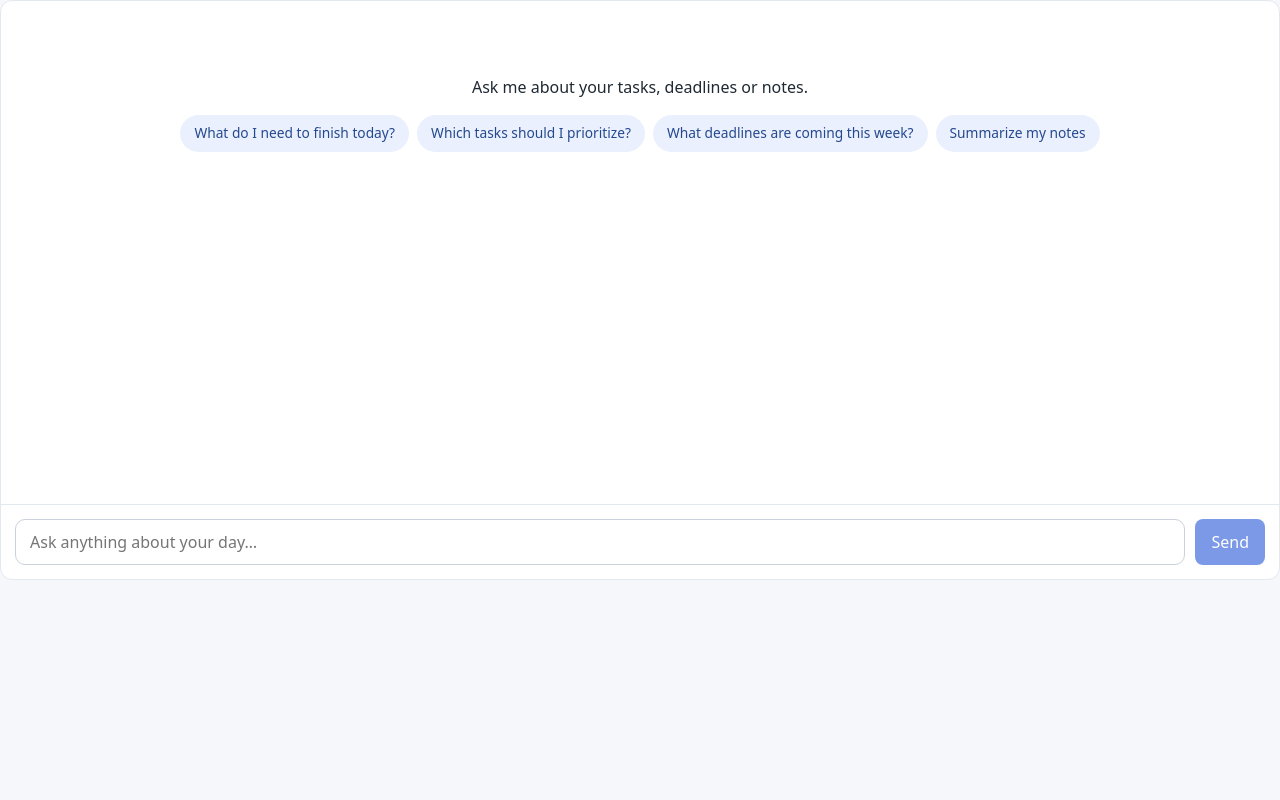
Scenario: ChatAssistant › shows an error when the API fails
The image size is (1280, 800).
Step 1. Type "hello" into the field named "message the assistant" → (600, 542), box [15,519,1186,565]
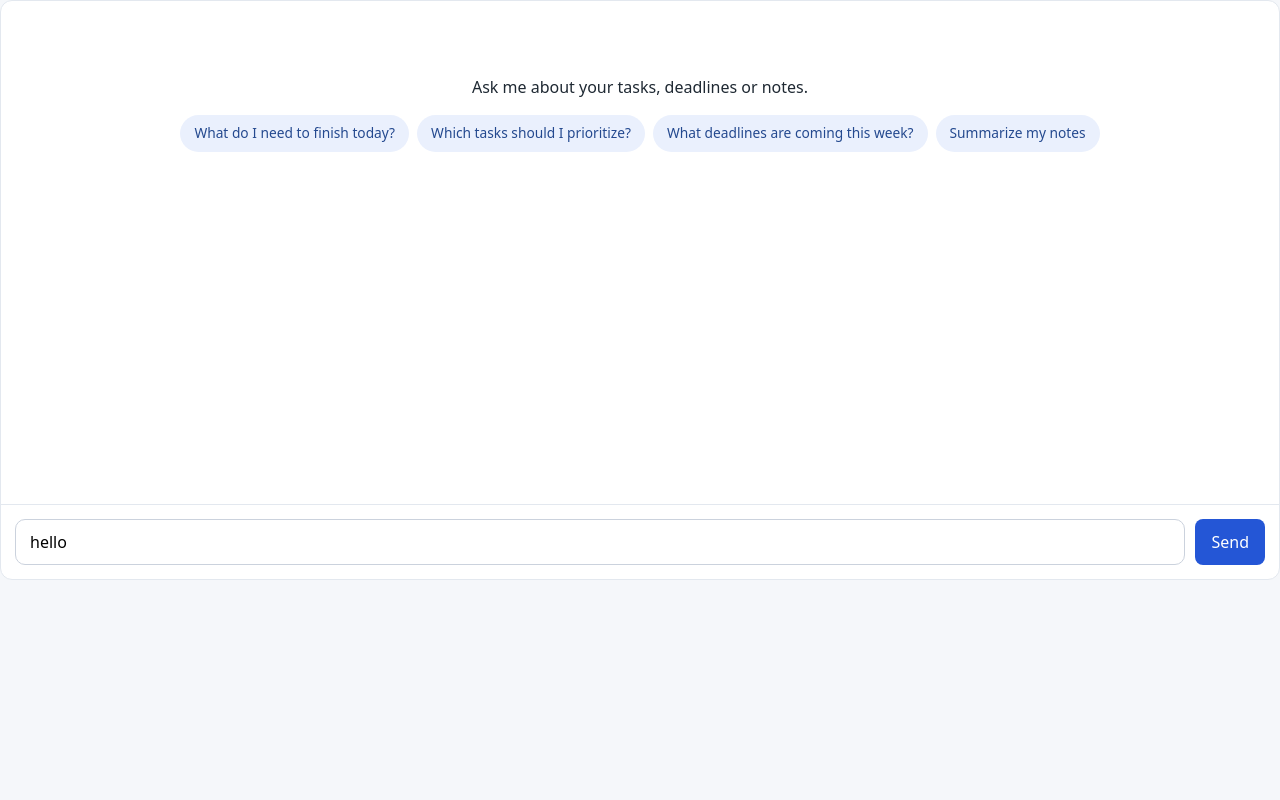
Step 2. Click the button "Send" → (1230, 542), box [1196,519,1265,565]
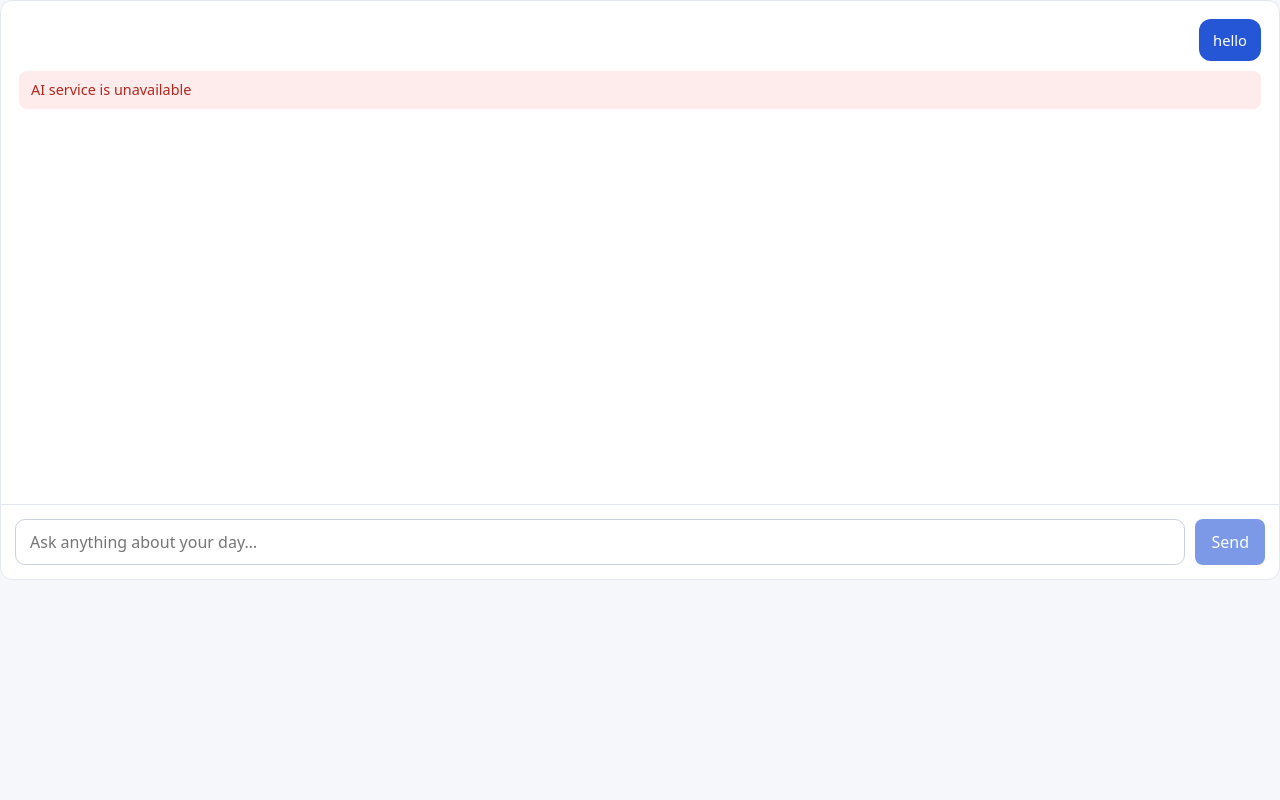
Now the text "AI service is unavailable" is shown, box [19,71,1261,109]
